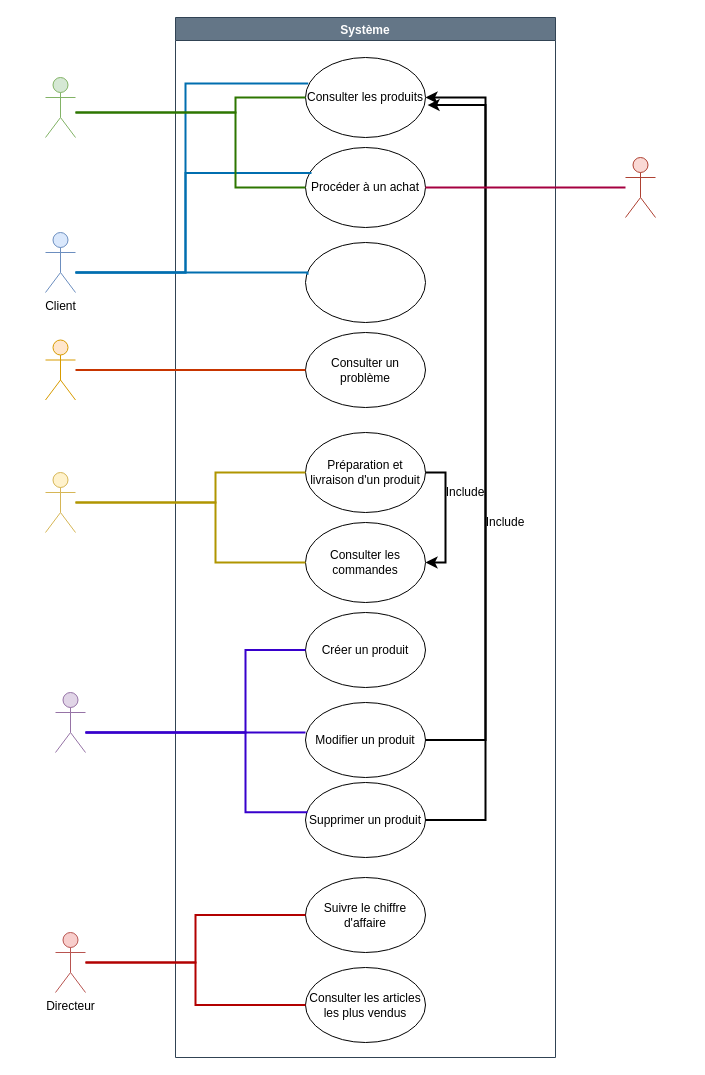
Image size: 705x1075. Some labels were removed from this diagram. The shapes that lost their labels are listed below. From the top down, each one's centre as x and y in pixels, then its label:
the point at 60,107: Commercial
the point at 640,187: <Système> système bancaire
the point at 365,282: Signaler un problème
the point at 60,369: Technicien
the point at 60,502: Service livraison
the point at 70,722: Administration
